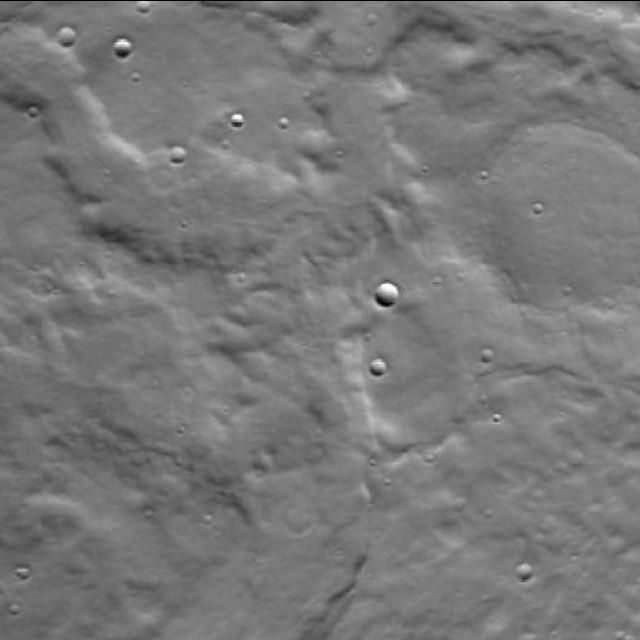crater: (471, 129, 640, 309), (377, 282, 400, 304), (114, 38, 132, 56), (58, 26, 76, 44), (370, 357, 387, 374), (170, 147, 186, 164), (516, 563, 532, 579)
